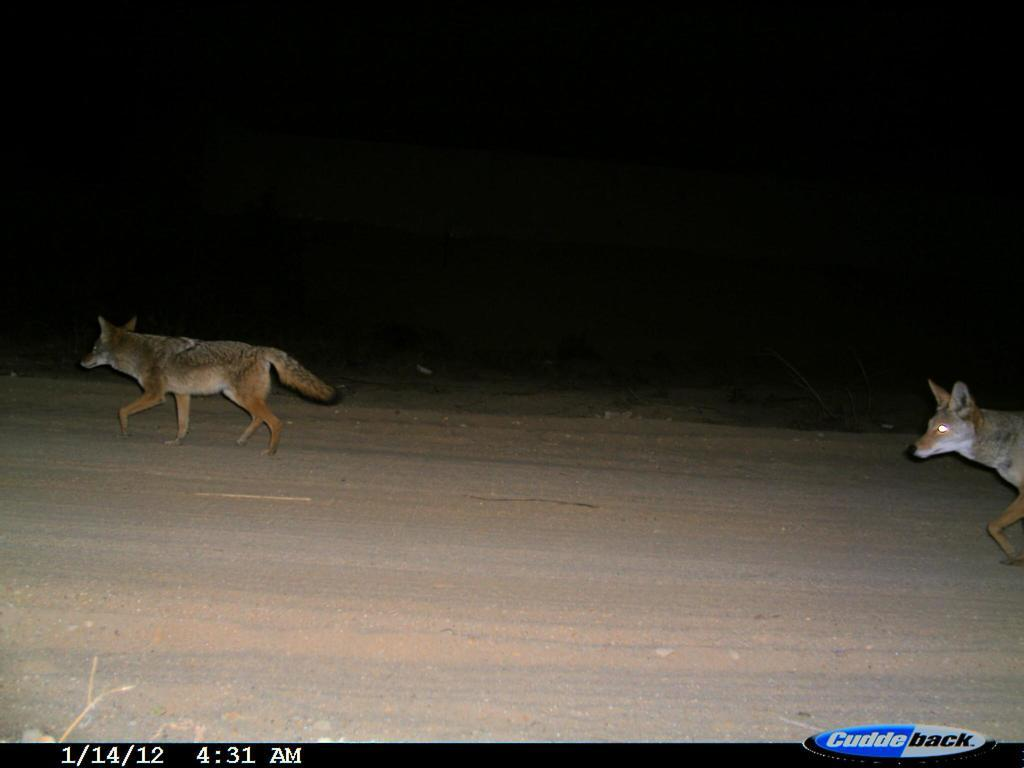coyote: (77, 315, 346, 465), (907, 372, 1022, 566)
